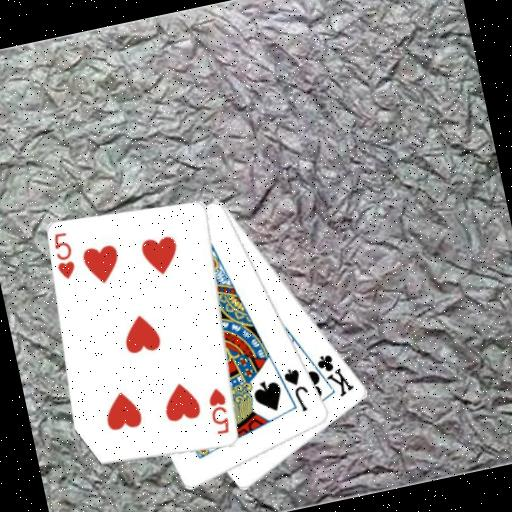5H: (203, 384, 235, 438), (47, 228, 79, 282)
JS: (278, 363, 314, 416)
KC: (305, 347, 358, 404)
